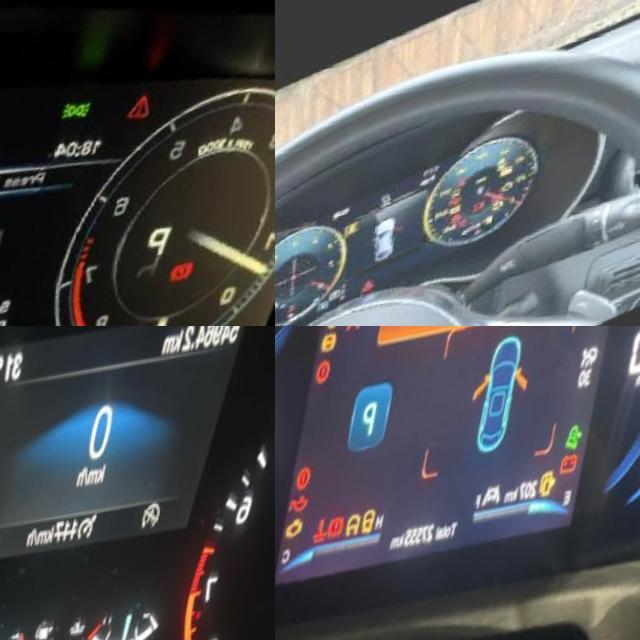Engine cooling system: (331, 519, 350, 554), (312, 302, 325, 314)
Low fuel level: (506, 223, 519, 236)
